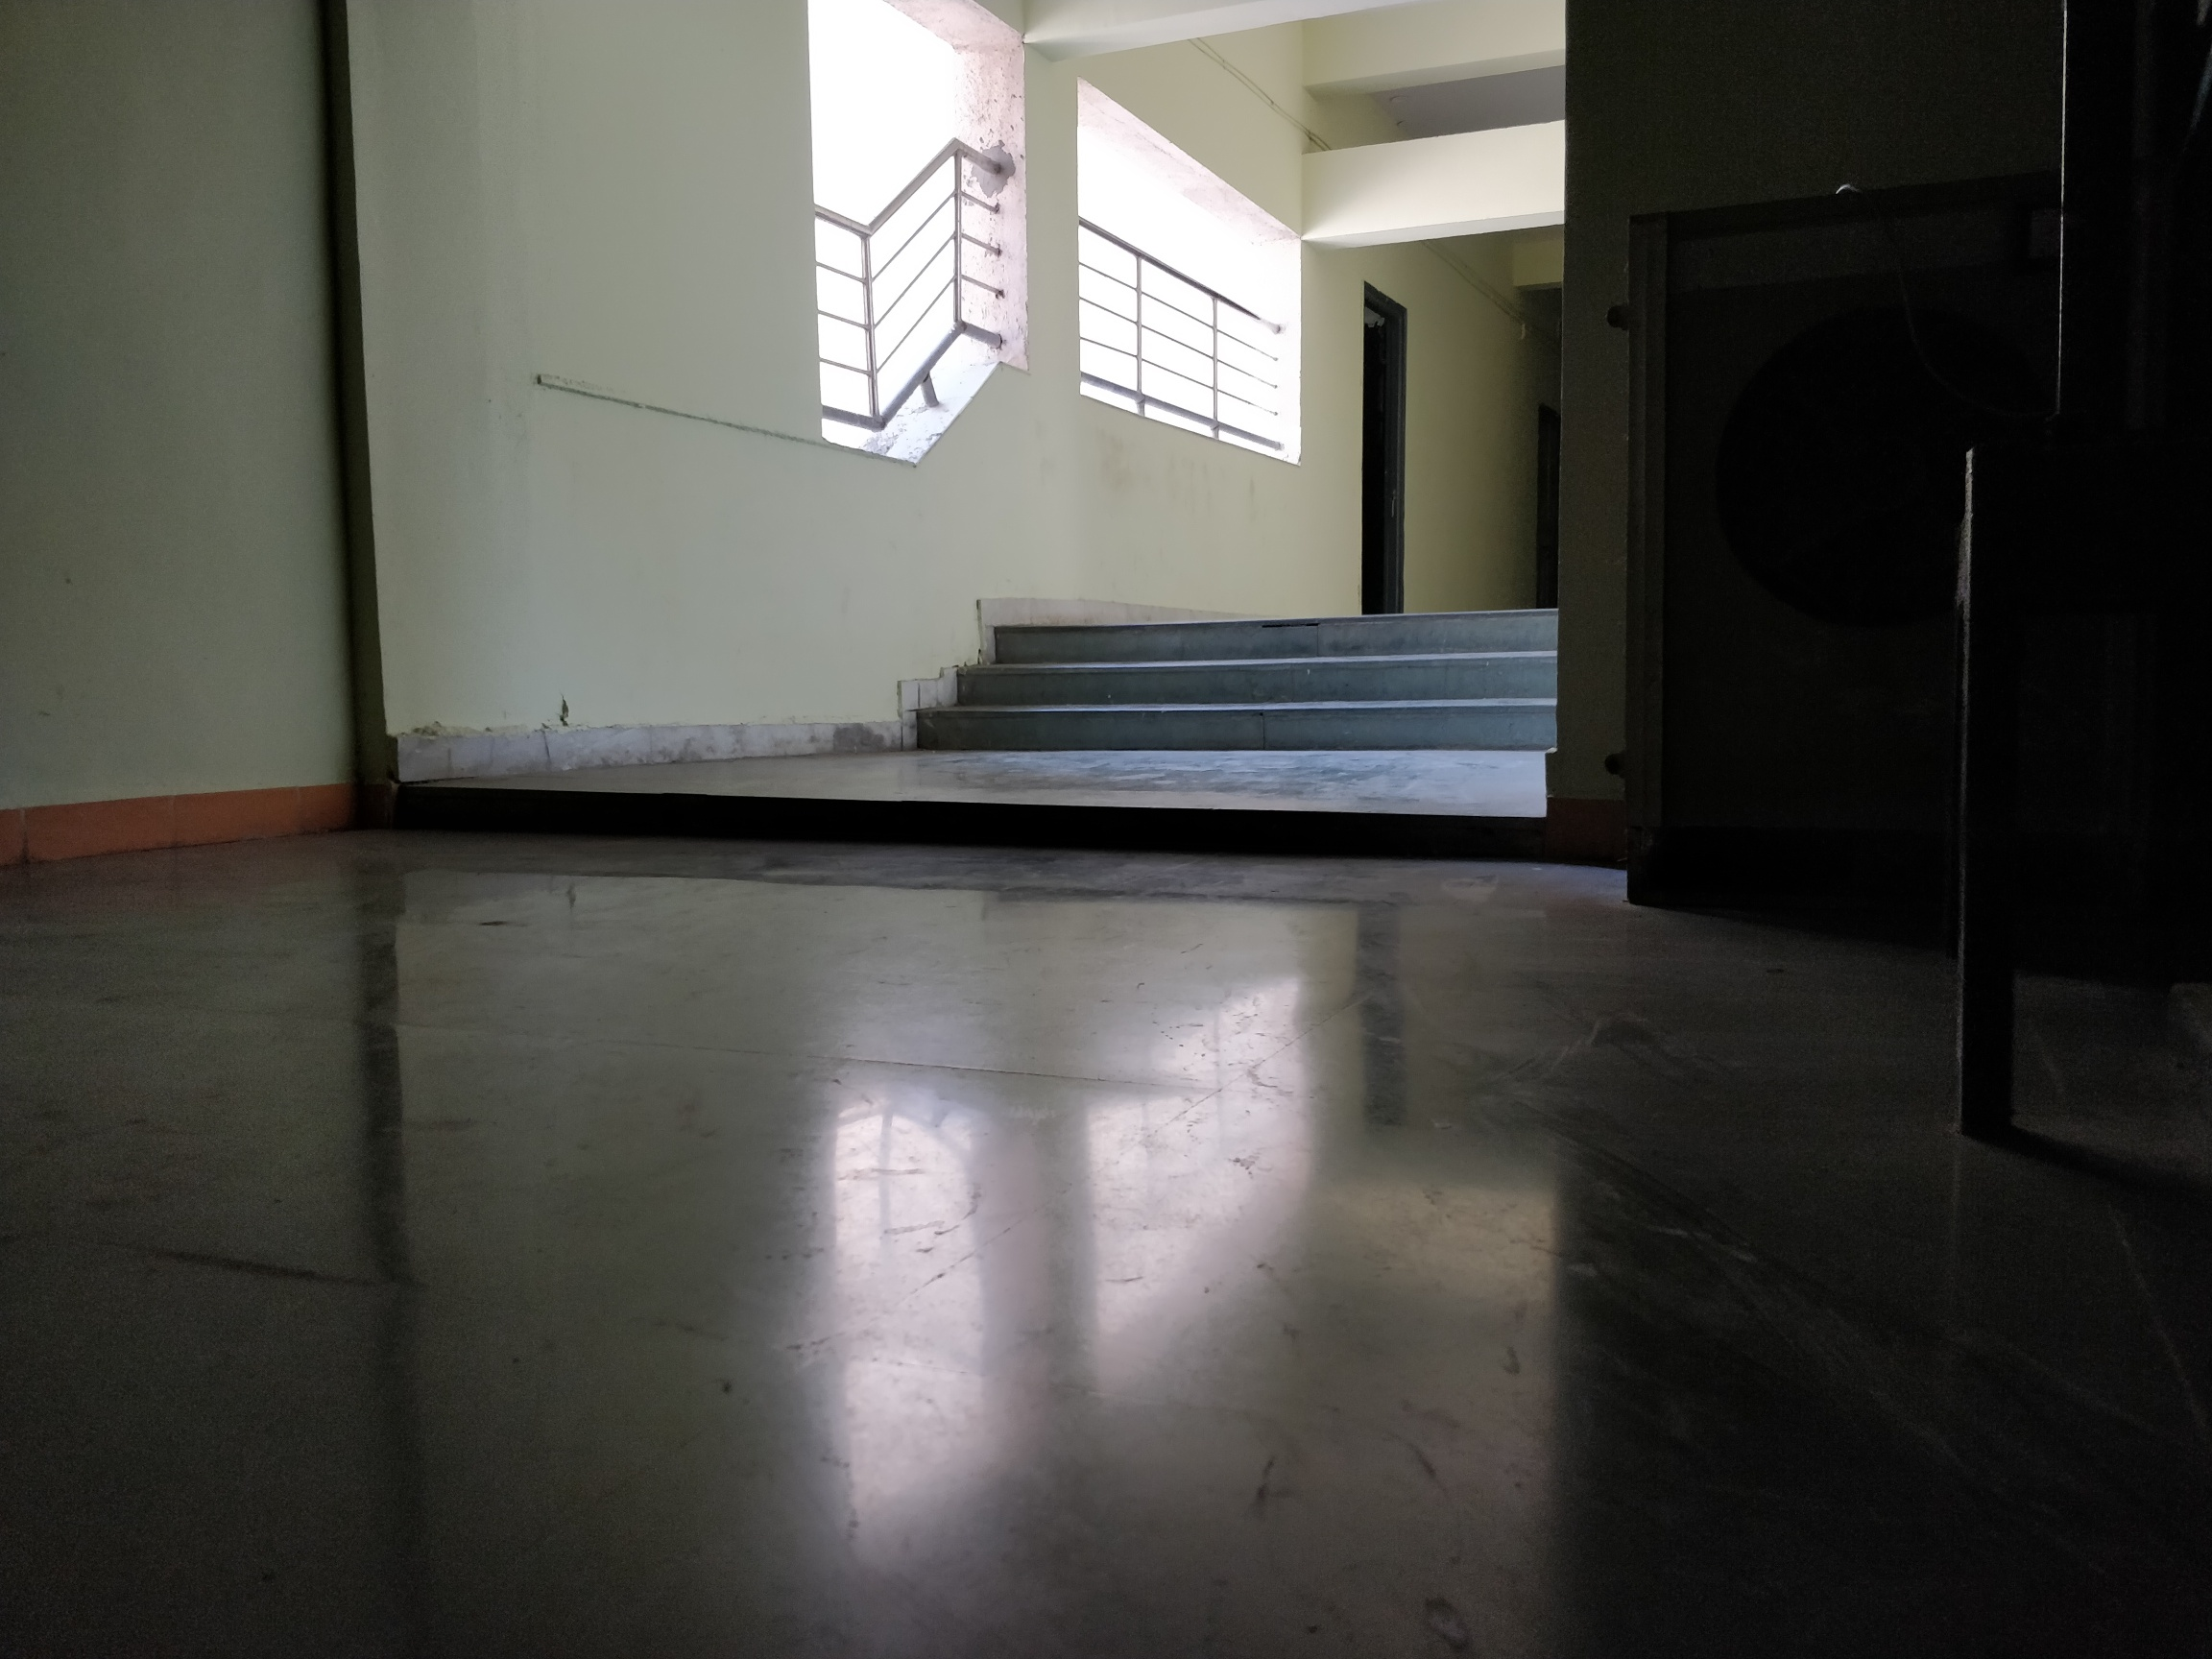stairs_up: (914, 610, 1566, 748)
